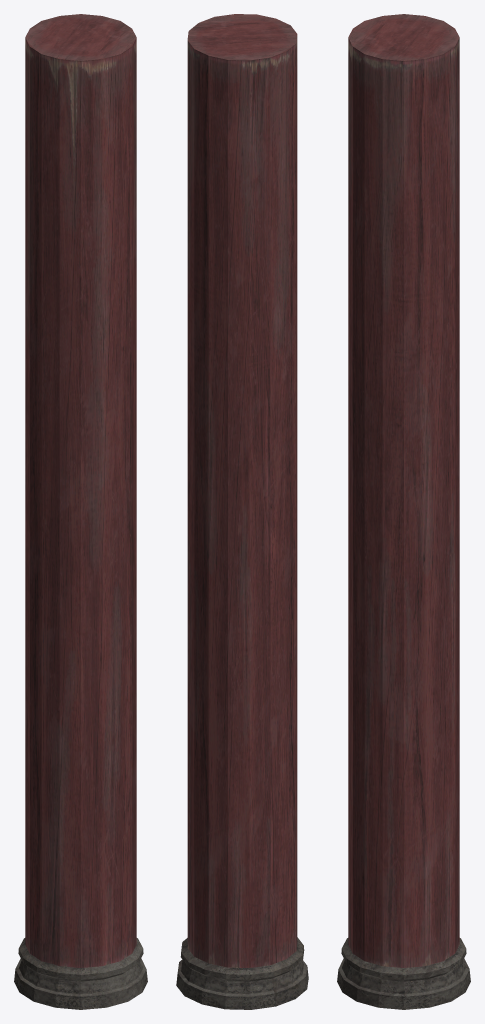
Rendered from ZhuZi_1.fbx.
The picture shows the model from 3 angles, left to right: view 1: azimuth 90°, elevation 25°; view 2: azimuth 210°, elevation 25°; view 3: azimuth 270°, elevation 25°; orthographic projection.
Visible parts, largest first — view 1: 3D_ZhuZi.mo; view 2: 3D_ZhuZi.mo; view 3: 3D_ZhuZi.mo.
Boxes of the visible parts, x1=… form: 3D_ZhuZi.mo: x1=14, y1=14, x2=147, y2=1009; 3D_ZhuZi.mo: x1=176, y1=14, x2=308, y2=1009; 3D_ZhuZi.mo: x1=337, y1=14, x2=470, y2=1009.
Bounding box in the file's own units: 32.2 × 251 × 32.2.
1 material, 1 textured.
